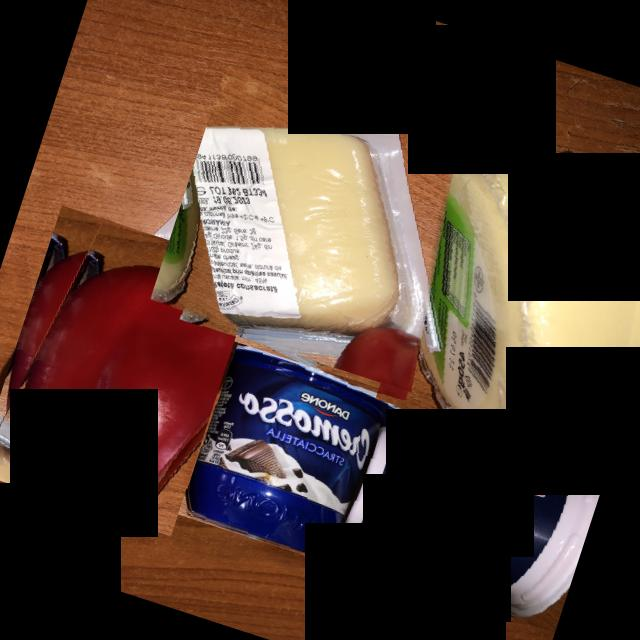cheese: (148, 68, 488, 392), (375, 122, 640, 474)
pepper: (0, 205, 257, 536)
yogurt: (330, 393, 608, 633), (169, 339, 410, 572)
